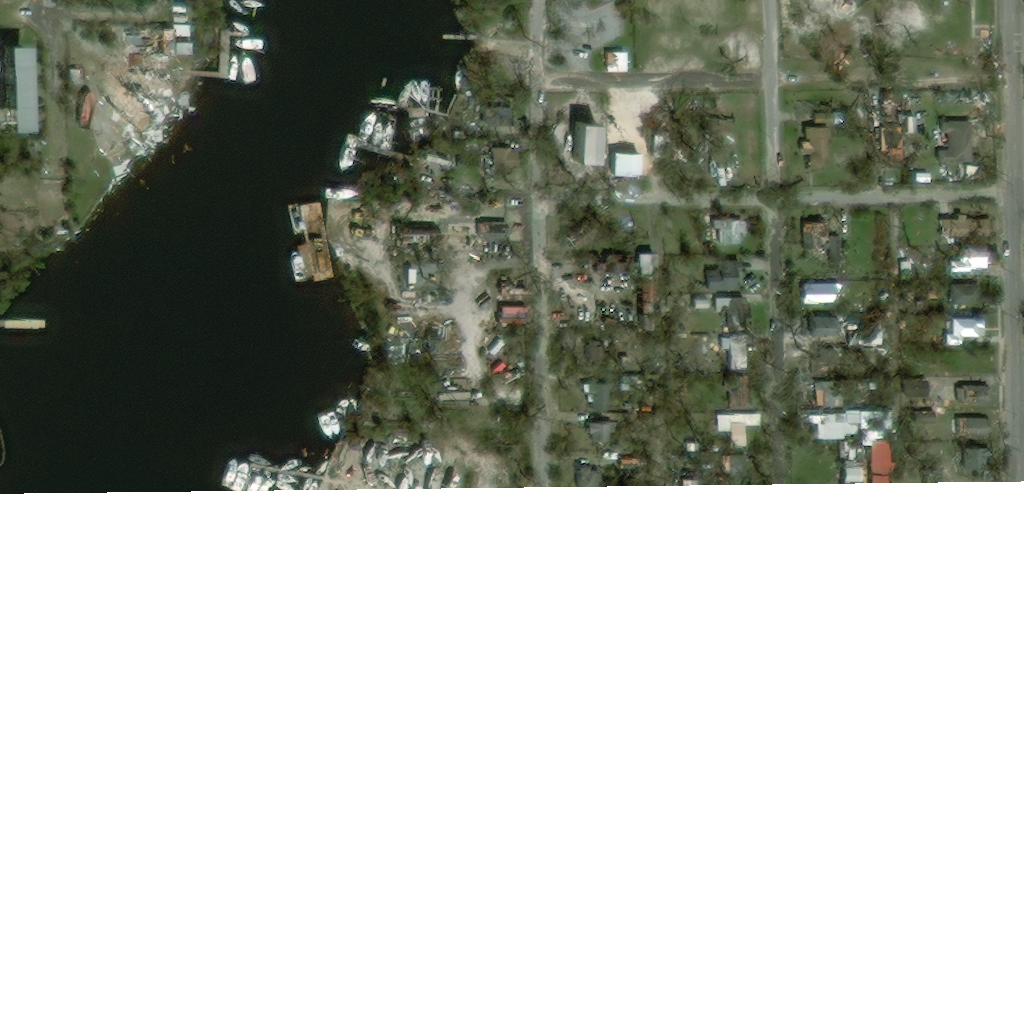destroyed: (95, 78, 153, 136), (118, 61, 171, 104), (117, 26, 164, 54), (410, 457, 427, 484), (487, 267, 509, 285), (949, 49, 971, 58), (920, 121, 931, 134)
major_damage: (910, 375, 986, 410), (0, 44, 19, 127), (902, 99, 924, 129), (984, 311, 1003, 338), (981, 30, 993, 45)
minor_damage: (719, 299, 754, 334), (396, 218, 436, 242), (803, 127, 833, 157), (803, 222, 833, 245), (884, 124, 900, 166), (476, 217, 504, 240), (717, 221, 745, 243), (607, 50, 630, 73), (957, 417, 988, 433), (66, 68, 84, 84)
no_damage: (840, 439, 889, 478), (713, 413, 761, 450), (572, 121, 599, 168), (814, 410, 858, 438), (942, 123, 972, 164), (706, 259, 739, 290), (582, 384, 615, 411), (953, 318, 985, 339), (475, 291, 498, 320), (952, 284, 983, 304), (801, 319, 830, 340), (727, 376, 747, 406), (852, 328, 884, 345), (838, 441, 863, 462), (590, 424, 616, 444), (815, 286, 839, 306), (685, 298, 710, 313), (953, 261, 973, 277), (814, 112, 842, 123), (594, 255, 611, 273), (170, 42, 188, 55), (169, 23, 184, 35), (914, 173, 929, 182)
unclassified: (602, 0, 617, 7)
